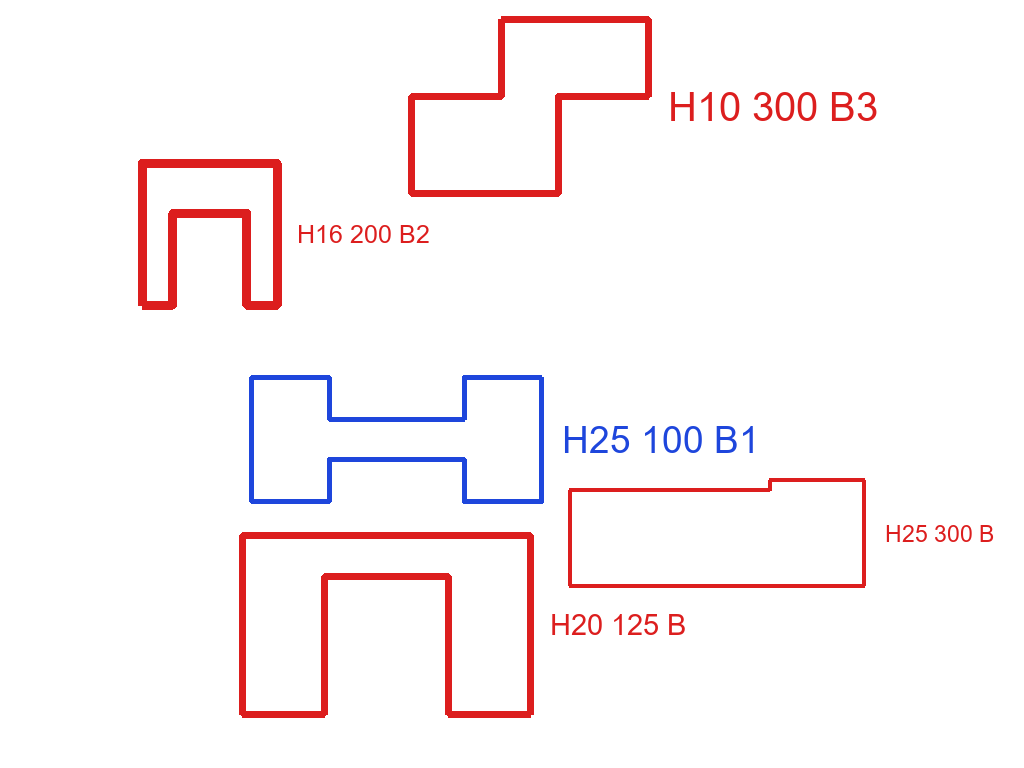shape: (237, 530, 536, 720), (406, 14, 654, 199), (247, 373, 546, 506), (566, 476, 869, 590), (136, 157, 284, 312)
text: (666, 90, 880, 123), (560, 424, 762, 455), (548, 612, 688, 637), (295, 223, 432, 245), (883, 523, 996, 544)
